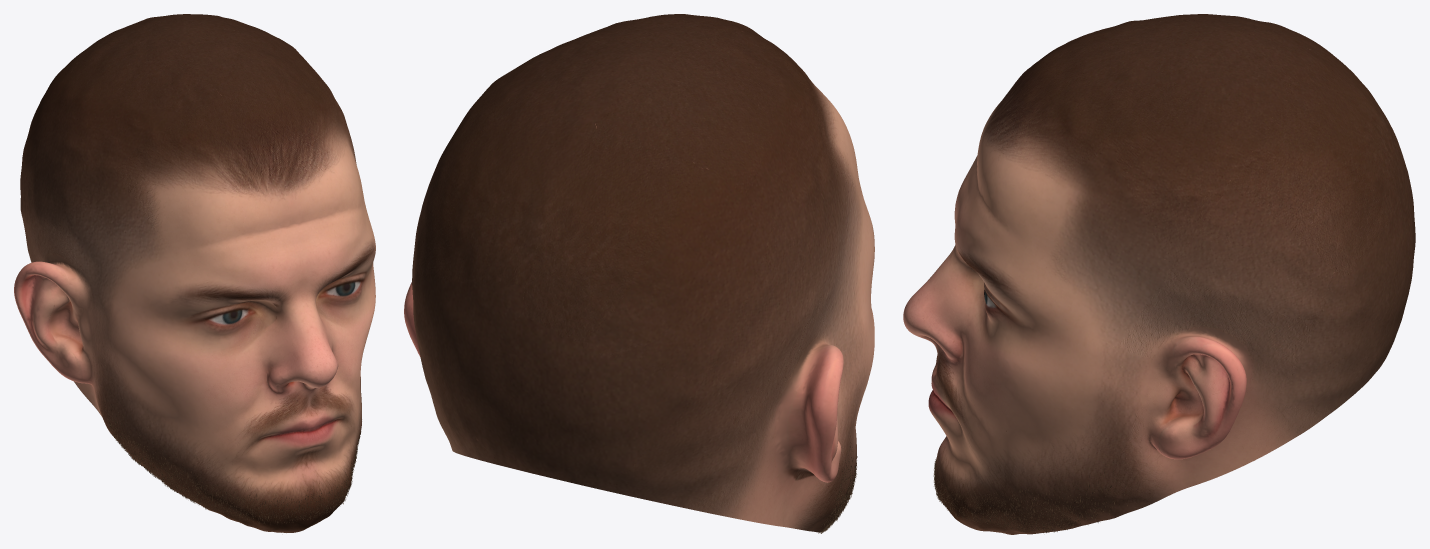
File: head-beard.glb
The picture shows the model from 3 angles, left to right: view 1: azimuth 30°, elevation 25°; view 2: azimuth 150°, elevation 25°; view 3: azimuth 270°, elevation 25°; orthographic projection. The views are drawn at different scales.
Visible parts, largest first — view 1: Head rotation pivot, Beard_Hairs; view 2: Head rotation pivot, Beard_Hairs; view 3: Head rotation pivot, Beard_Hairs.
Part boxes in pixels (x1,y1,x2,y2): Head rotation pivot: (14,14,375,532); Beard_Hairs: (103,391,361,524); Head rotation pivot: (404,14,874,532); Beard_Hairs: (818,442,857,533); Head rotation pivot: (903,14,1415,534); Beard_Hairs: (933,458,1128,532).
Size of the model in its own units: 2.06 by 2.55 by 2.4.
Materials: 5 (1 with a texture image).
